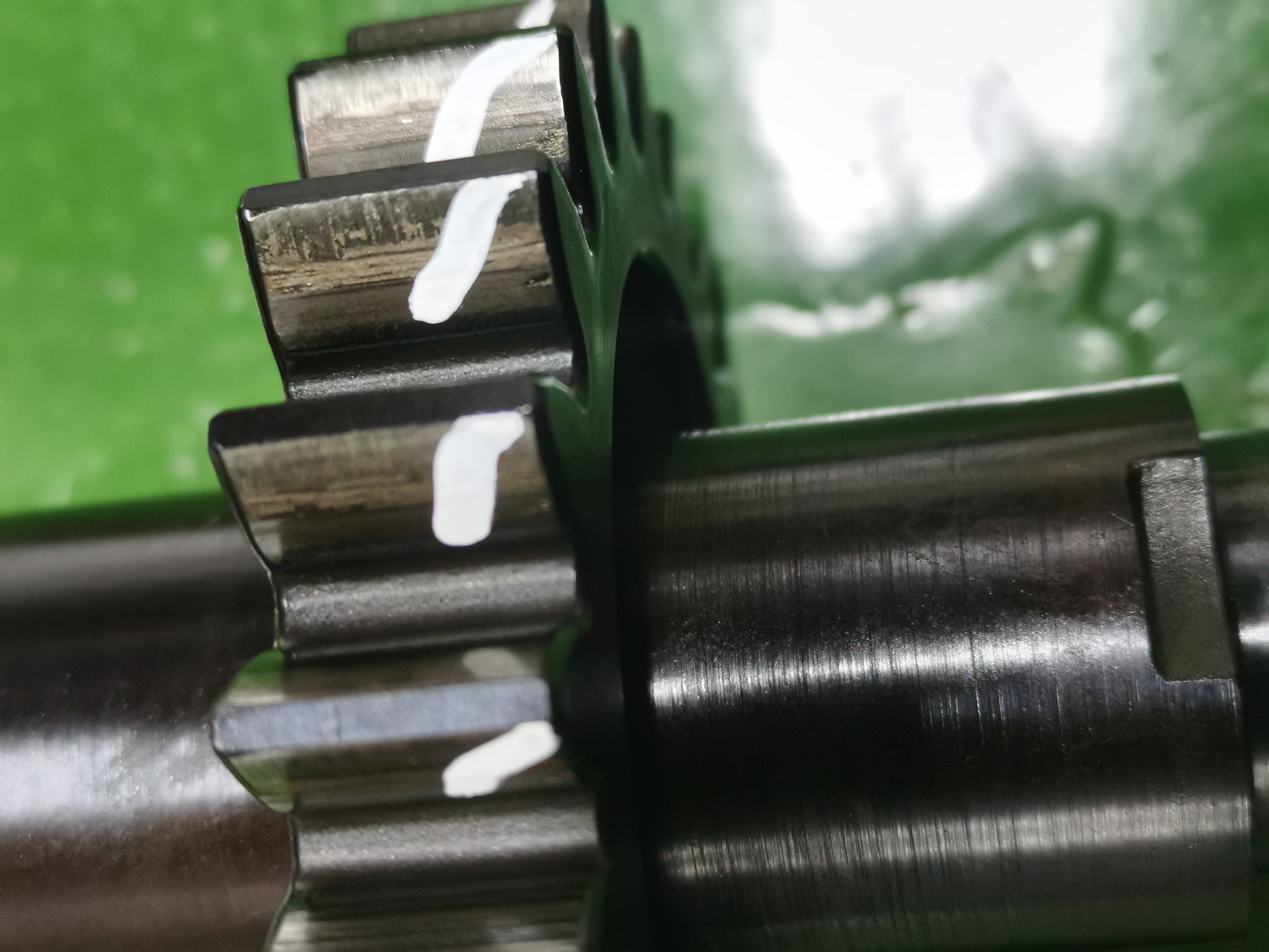Abrasion: (193, 407, 606, 579), (218, 172, 597, 340), (279, 32, 585, 166), (213, 620, 590, 689)
